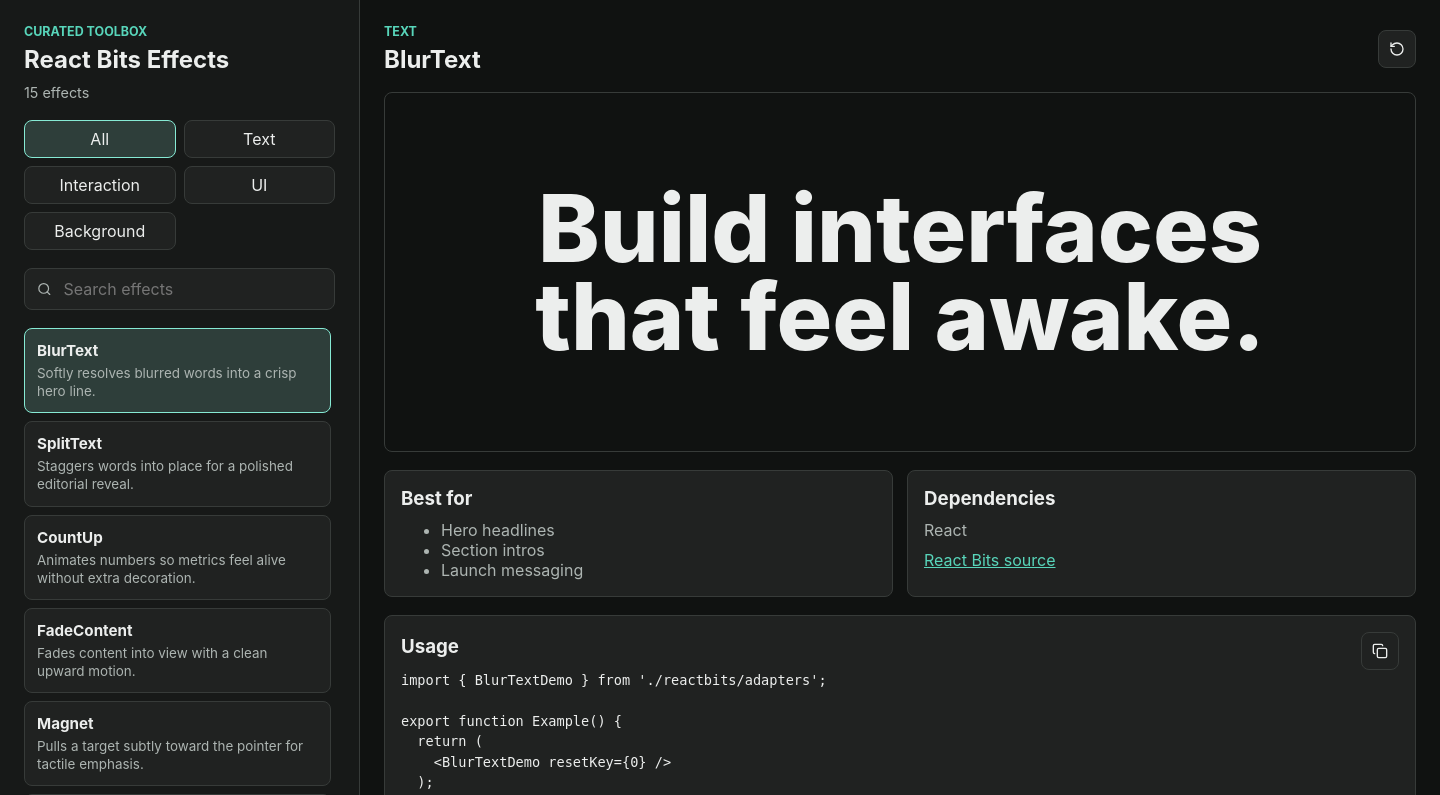
EffectLab › renders CountUp final value immediately when reduced motion is preferred
Step 1. Click the button "CountUp" → (178, 557), box [24, 515, 331, 600]
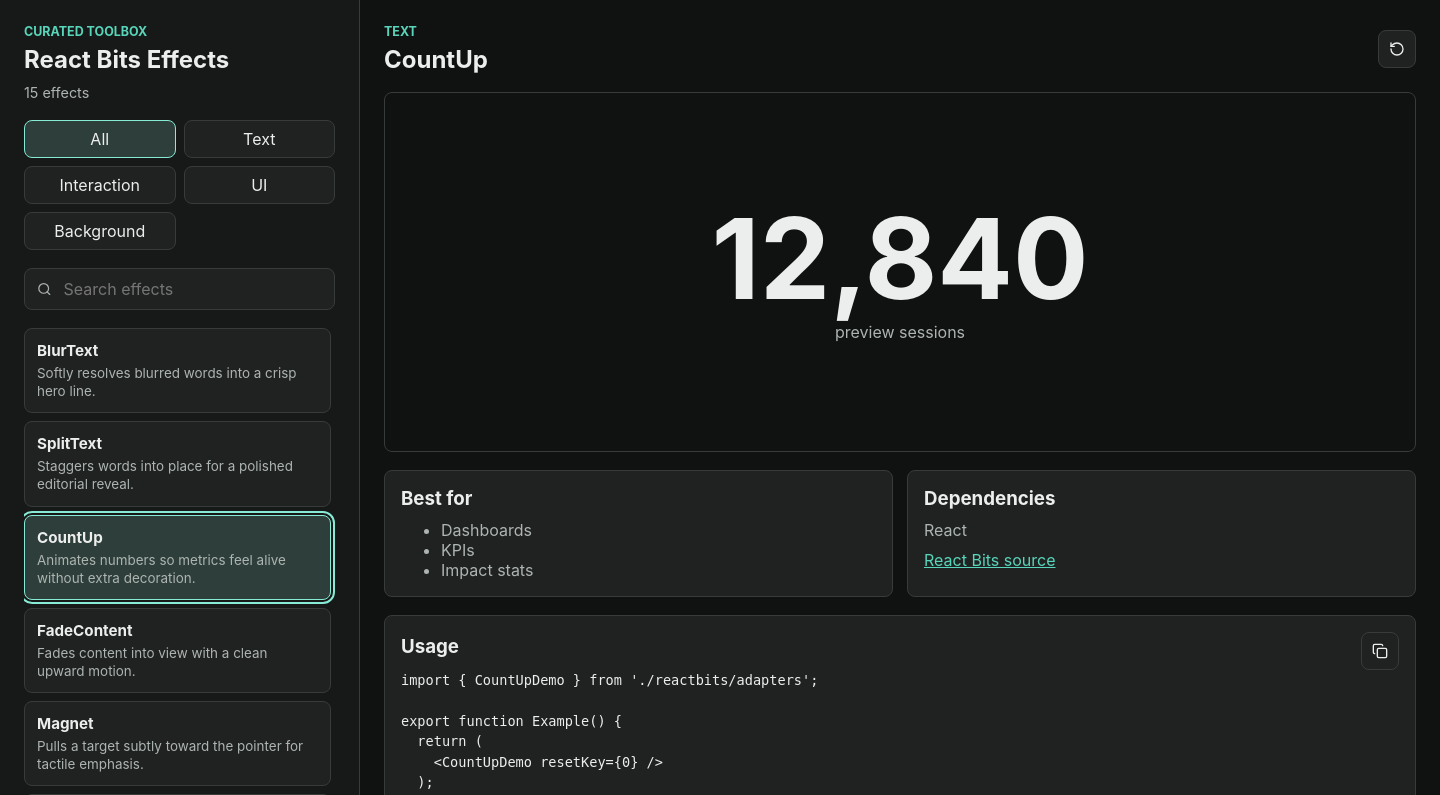
Now the text "12,840" is shown, box [711, 202, 1089, 314]
